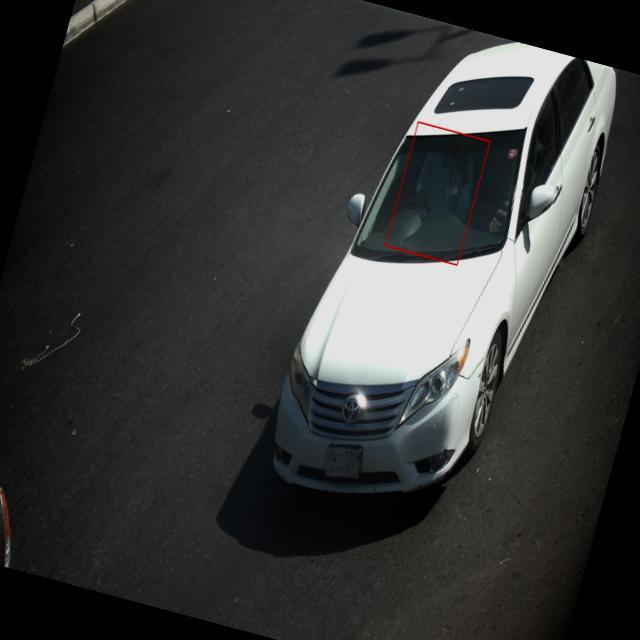windshield: (348, 122, 546, 269)
